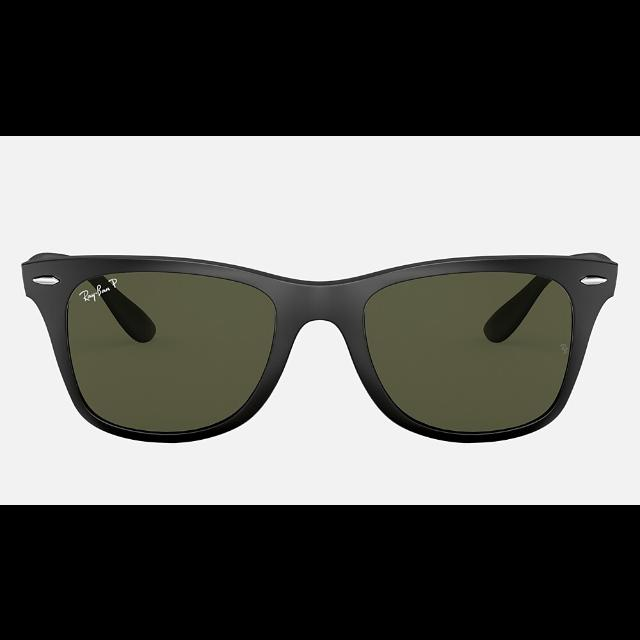Sunglasses: (22, 250, 618, 442)
